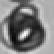correct: (0, 0, 49, 51)
